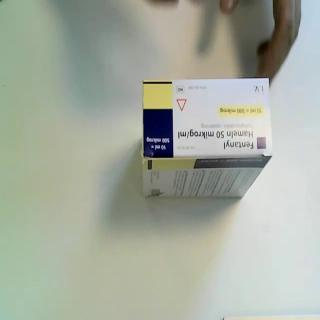fentanyl50ug_ml: (140, 77, 275, 203)
